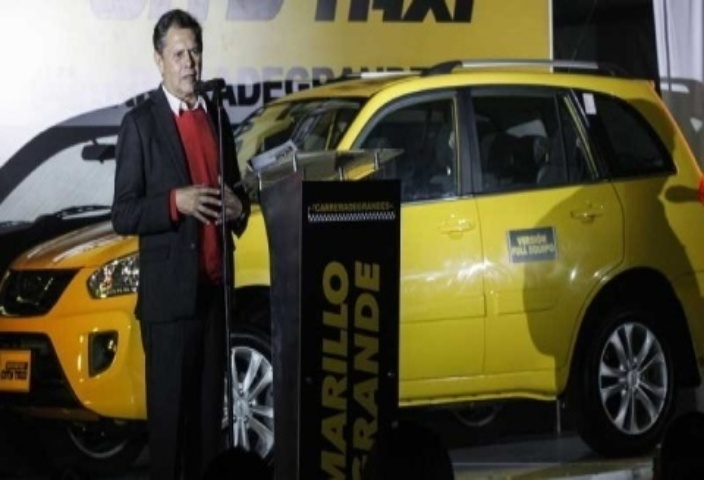taxi: (29, 66, 702, 452)
